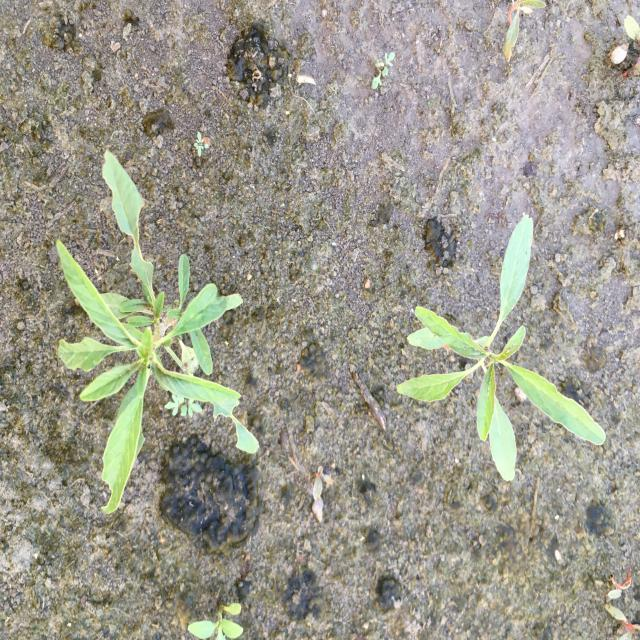Waterhemp: (54, 149, 261, 516), (394, 212, 607, 483)
